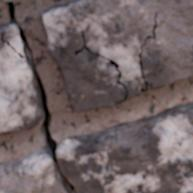brick: (42, 0, 192, 111), (0, 42, 41, 133), (0, 24, 21, 51)
broken_brick: (57, 101, 192, 192), (0, 147, 63, 192)
crack: (0, 0, 77, 192), (73, 29, 128, 102), (138, 11, 157, 94)
